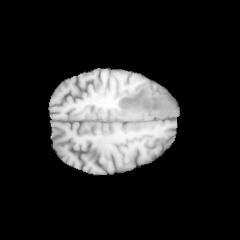glioma: (116, 88, 174, 118)
